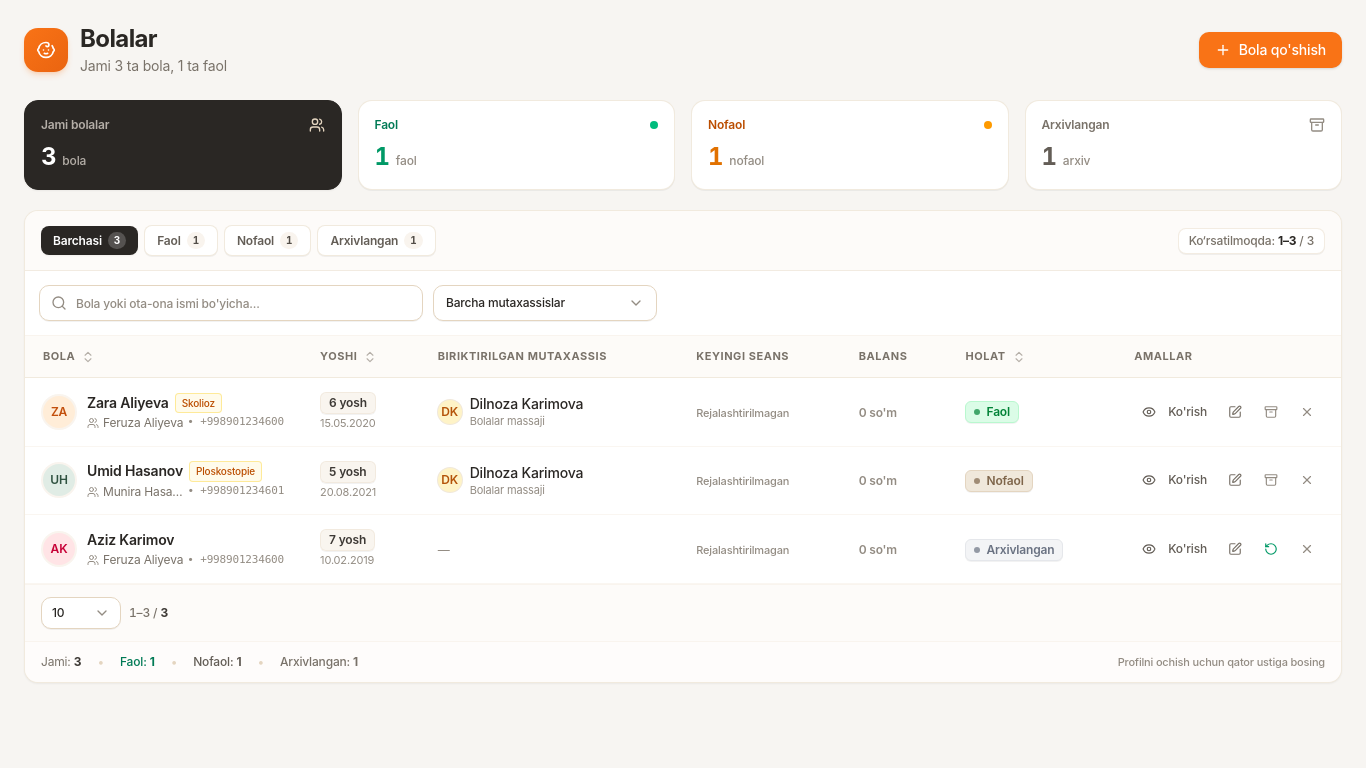
Test case: ChildrenPage Component › filters children by search query with debouncing
In the field with placeholder "Bola yoki ota-ona ismi bo'yicha...": coordinates (231, 303) [39,285,423,321], type "Zara"
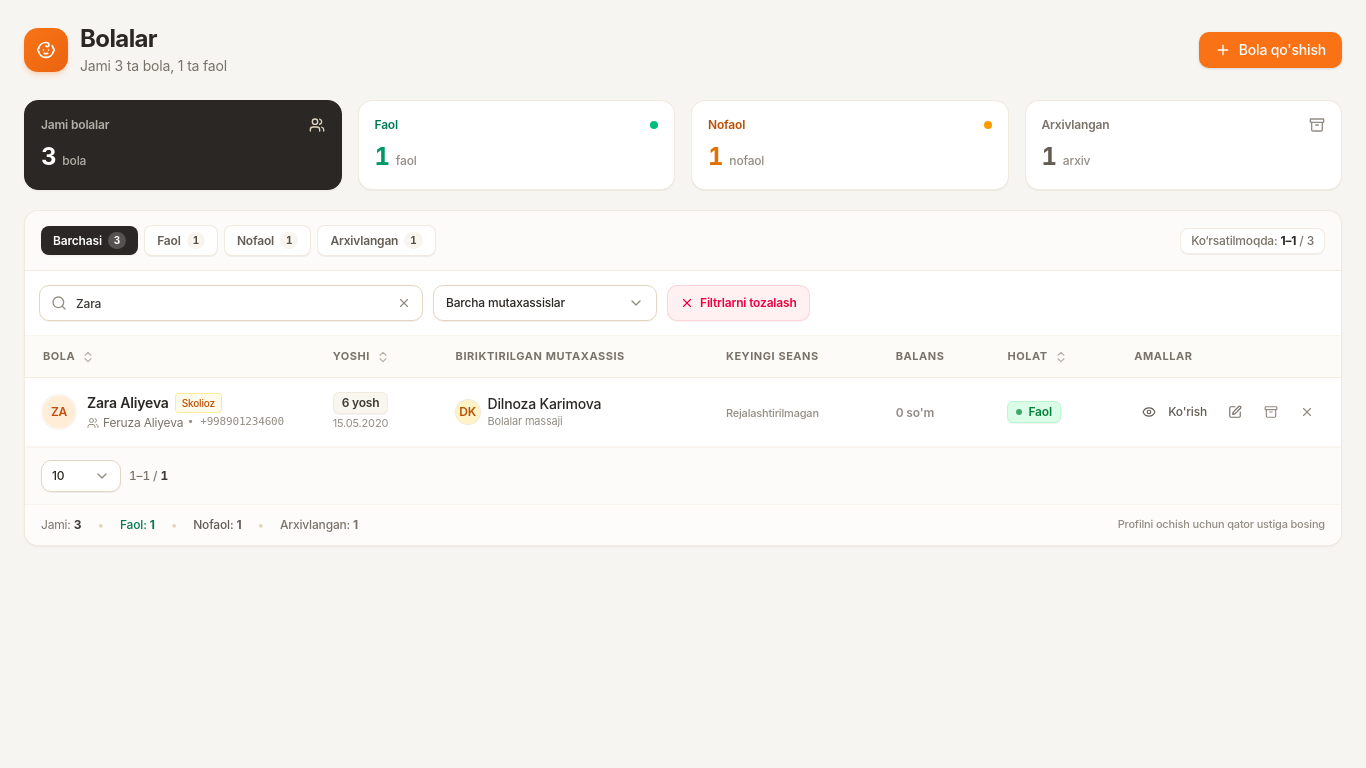
Expected: the text "Zara Aliyeva" is shown, [87,393,169,413]
Expected: the text "Umid Hasanov" is gone
